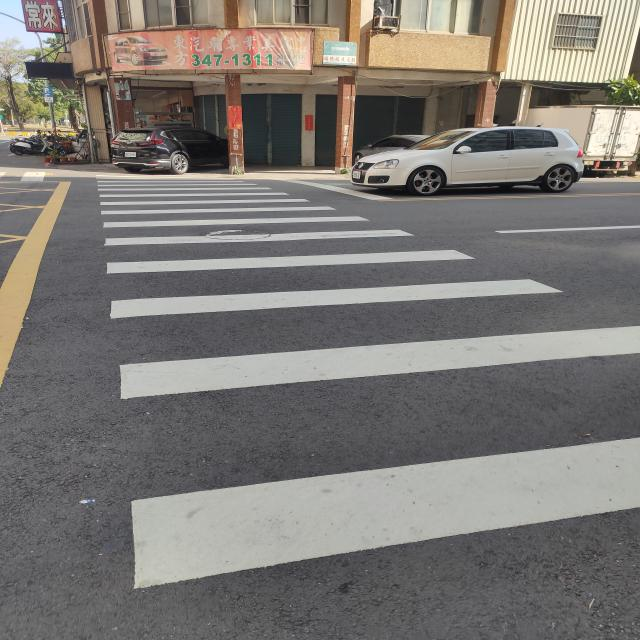zebra_crossing: (199, 85, 286, 263)
